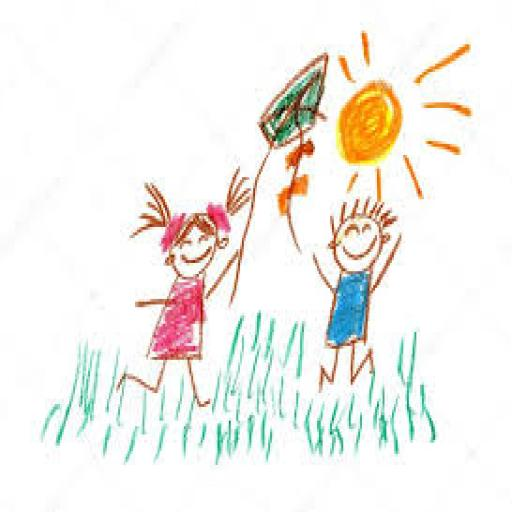person: (104, 155, 268, 411), (306, 193, 410, 417)
